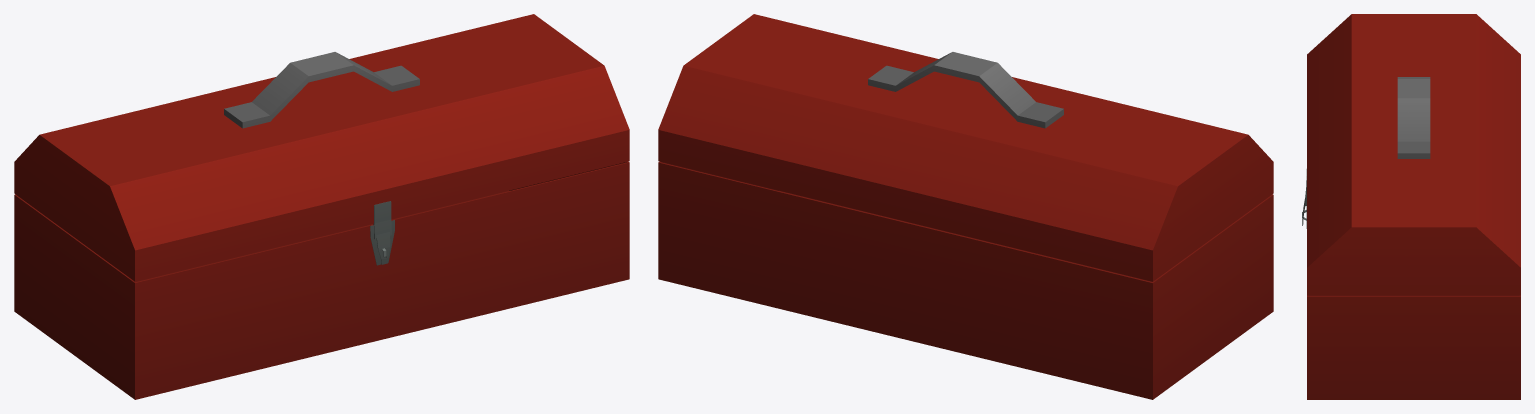
File: Tool_02_Tool_Box_Open_01.obj
3 renders of one model, left to right at view 1: azimuth 30°, elevation 25°; view 2: azimuth 150°, elevation 25°; view 3: azimuth 270°, elevation 25°, orthographic. The views are drawn at different scales.
Parts seen in each view (by area): view 1: Tool_02_Tool_Box_Open_Top_01, Tool_02_Tool_Box_Open_01; view 2: Tool_02_Tool_Box_Open_Top_01, Tool_02_Tool_Box_Open_01; view 3: Tool_02_Tool_Box_Open_Top_01, Tool_02_Tool_Box_Open_01.
Boxes of the visible parts, x1,y1,x2,y2 form: Tool_02_Tool_Box_Open_Top_01: (14,14,629,281); Tool_02_Tool_Box_Open_01: (14,161,629,399); Tool_02_Tool_Box_Open_Top_01: (658,14,1273,281); Tool_02_Tool_Box_Open_01: (658,161,1273,399); Tool_02_Tool_Box_Open_Top_01: (1302,14,1520,295); Tool_02_Tool_Box_Open_01: (1302,194,1520,399).
Size of the model in its own units: 0.67 by 0.2995 by 0.2904.
